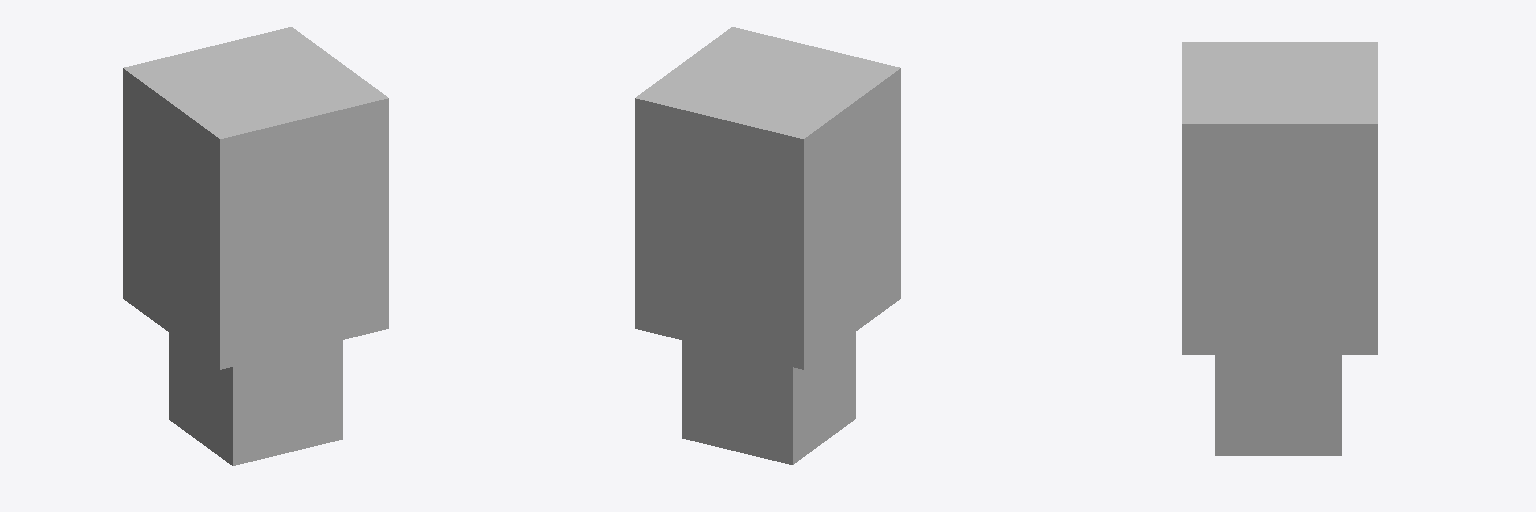
The model's file is Tree01.obj.
The picture shows the model from 3 angles: view 1: azimuth 30°, elevation 25°; view 2: azimuth 150°, elevation 25°; view 3: azimuth 270°, elevation 25°; orthographic projection.
Visible parts, largest first — view 1: Tree01_Plane; view 2: Tree01_Plane; view 3: Tree01_Plane.
Part boxes in pixels (bbox=[...]): Tree01_Plane: bbox=[123, 27, 388, 465]; Tree01_Plane: bbox=[635, 27, 900, 464]; Tree01_Plane: bbox=[1182, 42, 1377, 455].
Size of the model in its own units: 4.6 by 9 by 4.6.